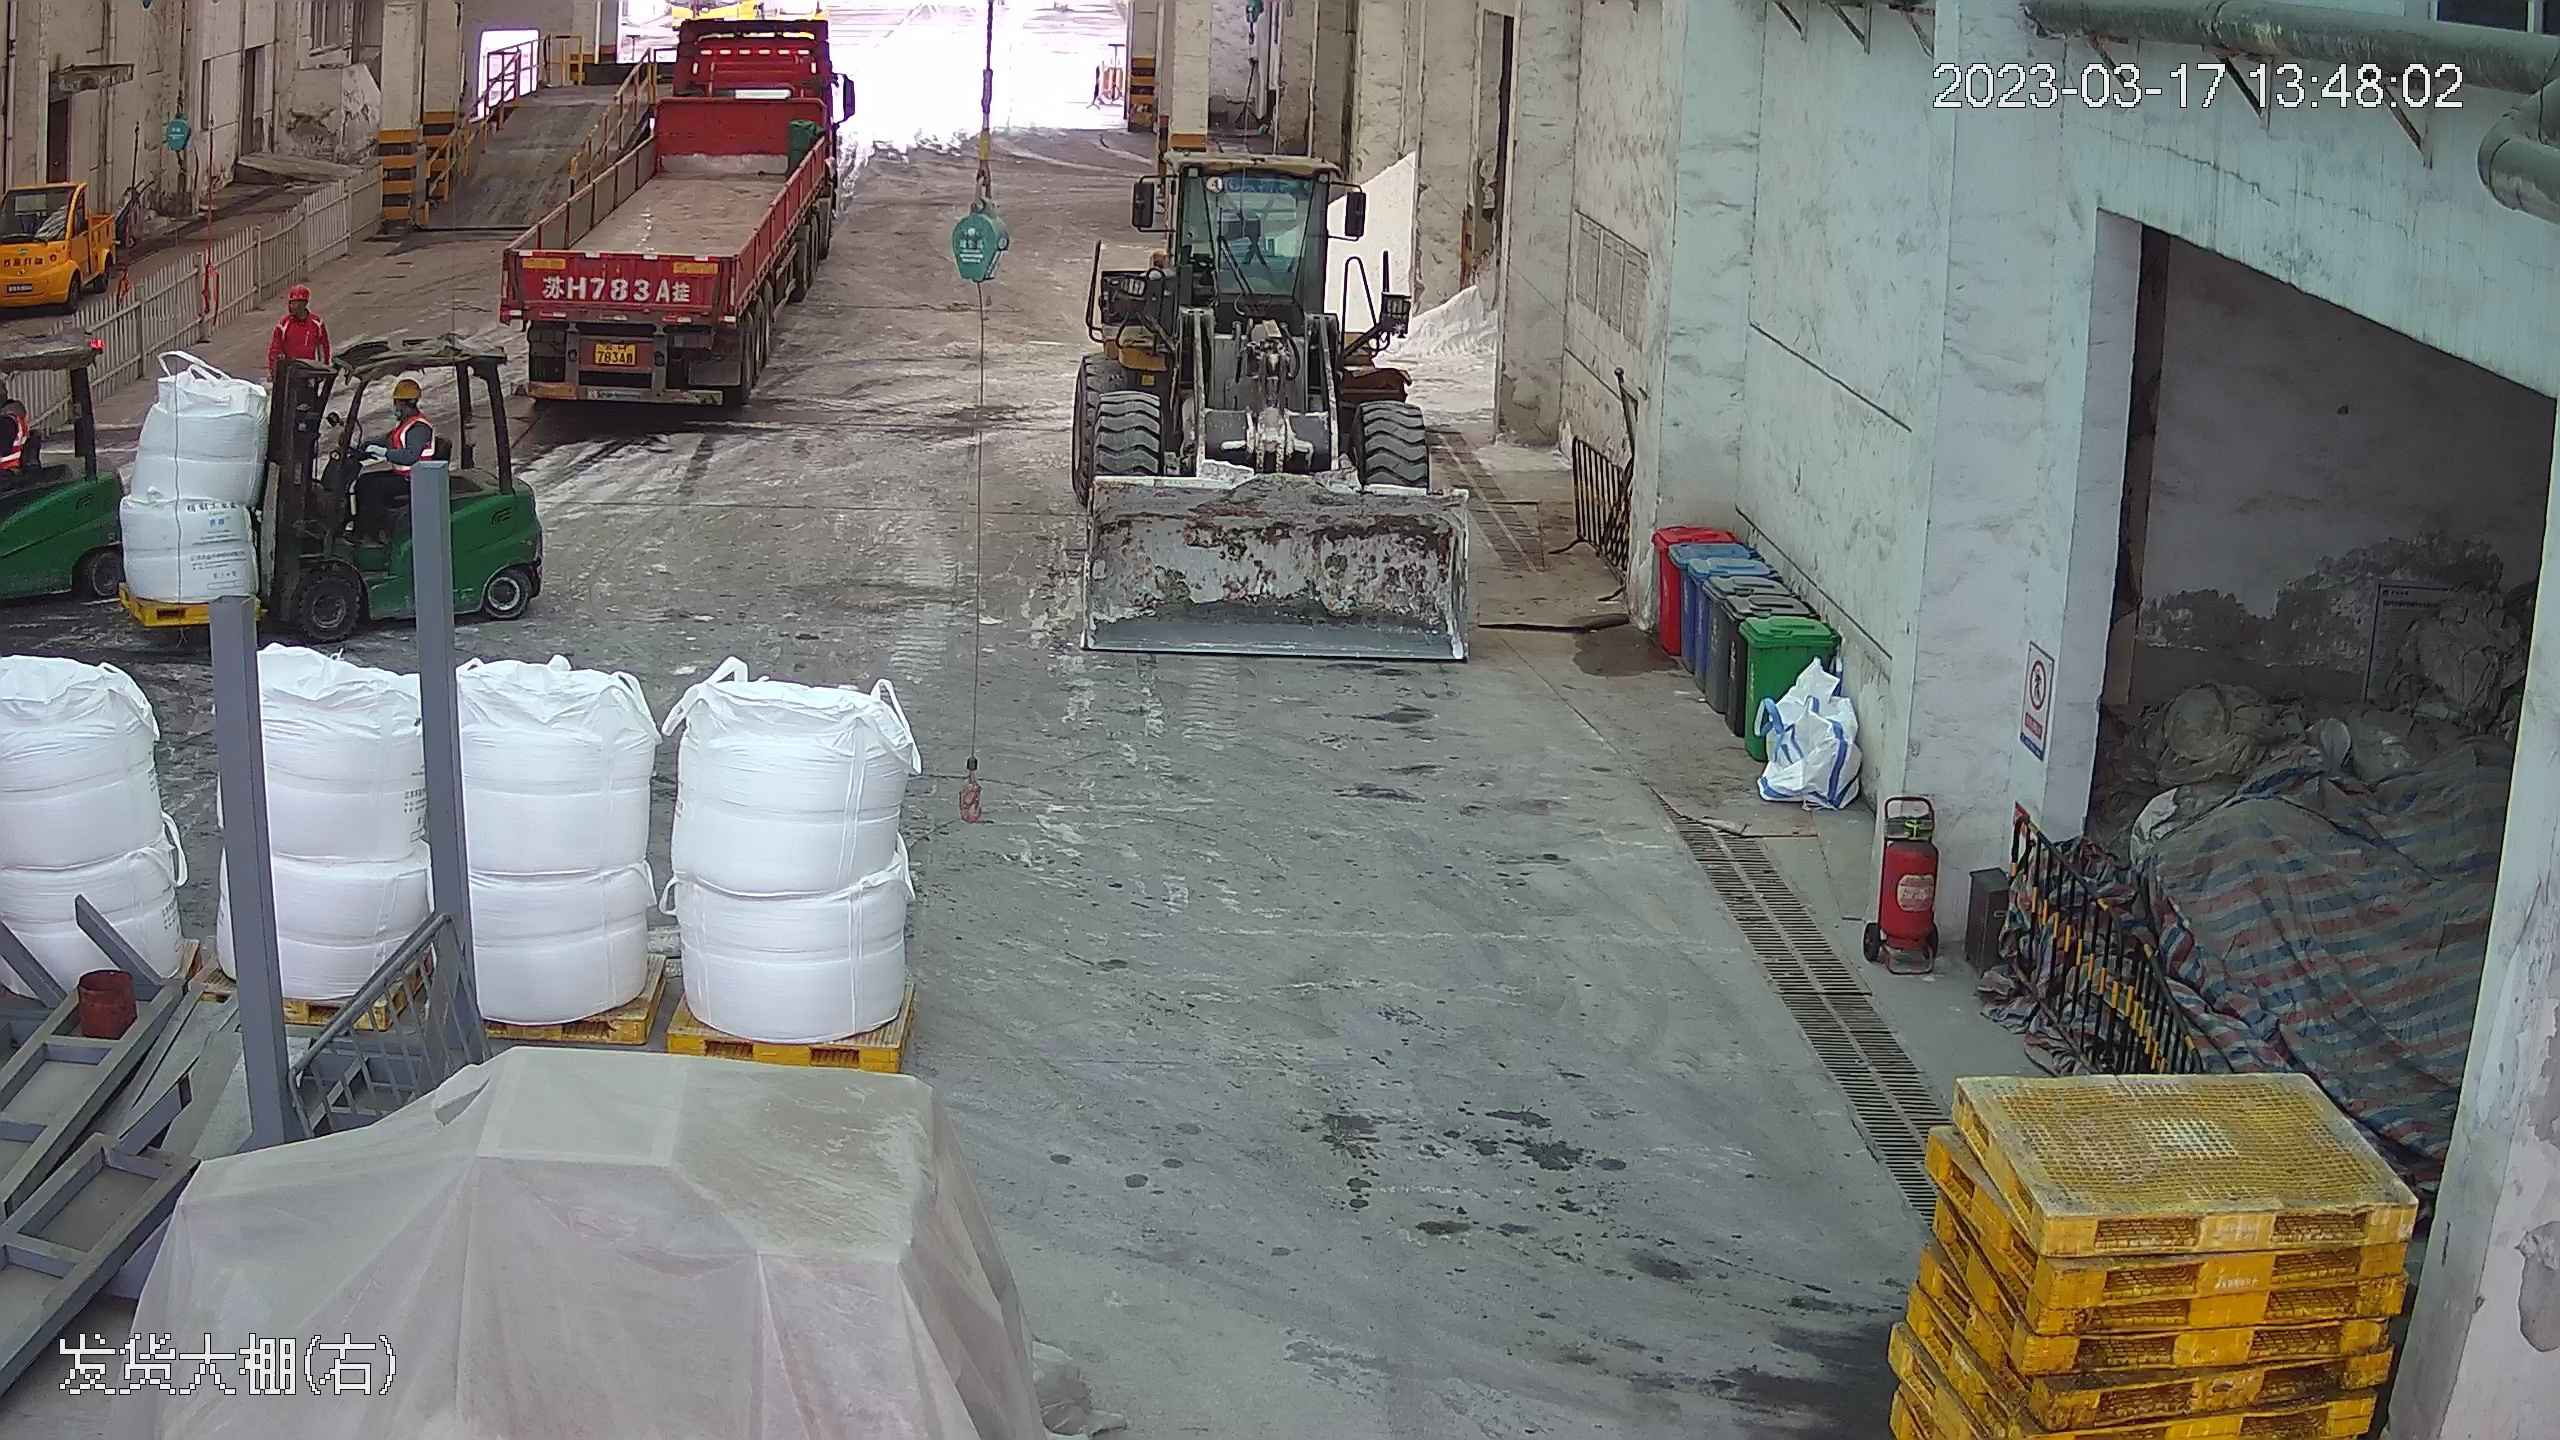head: (378, 374, 433, 443), (272, 282, 323, 336)
helmet: (388, 375, 422, 401), (281, 281, 313, 303)
people: (270, 281, 326, 368)
truck: (494, 9, 850, 414)
